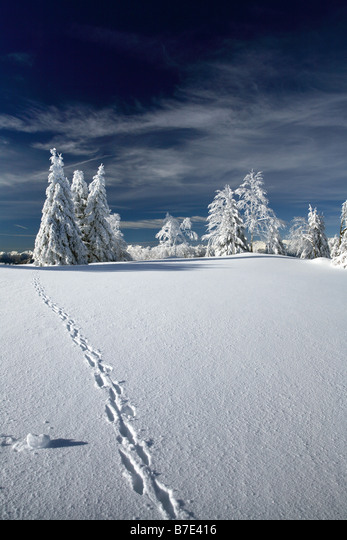fox: (116, 450, 146, 496), (105, 404, 118, 427)
